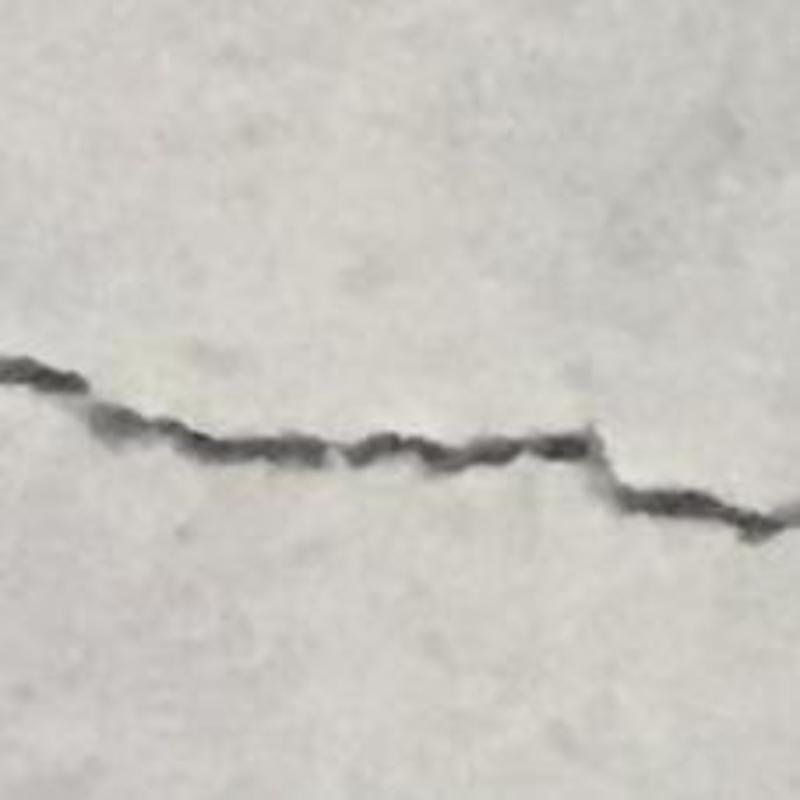crack: (0, 356, 800, 539)
